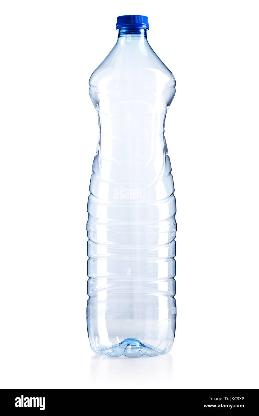Plastic Bottle: (86, 15, 178, 358)
